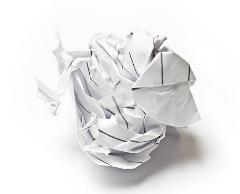paper: (34, 27, 202, 170)
